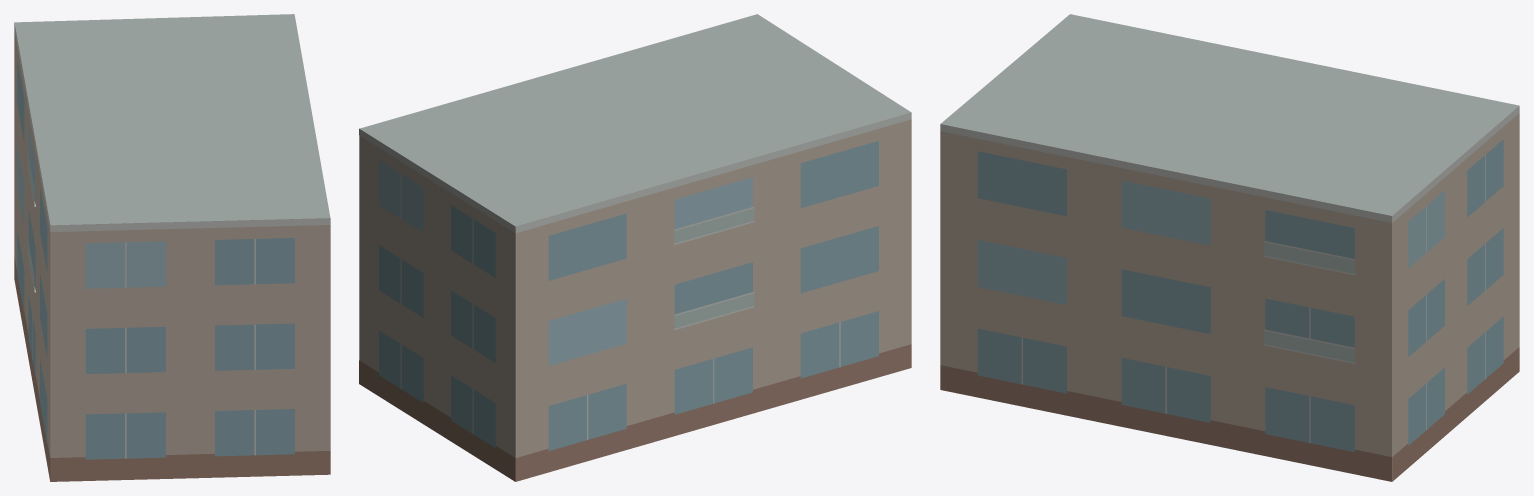
Rendered from survey-upis-32697224.glb.
The picture shows the model from 3 angles, left to right: view 1: azimuth 30°, elevation 25°; view 2: azimuth 150°, elevation 25°; view 3: azimuth 270°, elevation 25°; orthographic projection. The views are drawn at different scales.
Parts seen in each view (by area): view 1: survey-upis-32697224.tmp; view 2: survey-upis-32697224.tmp; view 3: survey-upis-32697224.tmp.
Boxes of the visible parts, x1=… form: survey-upis-32697224.tmp: x1=14, y1=14, x2=330, y2=481; survey-upis-32697224.tmp: x1=359, y1=14, x2=911, y2=481; survey-upis-32697224.tmp: x1=940, y1=14, x2=1519, y2=481.
Bounding box in the file's own units: 14.92 × 9.15 × 18.08.
